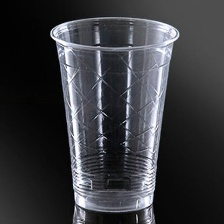glass: (45, 12, 183, 215)
